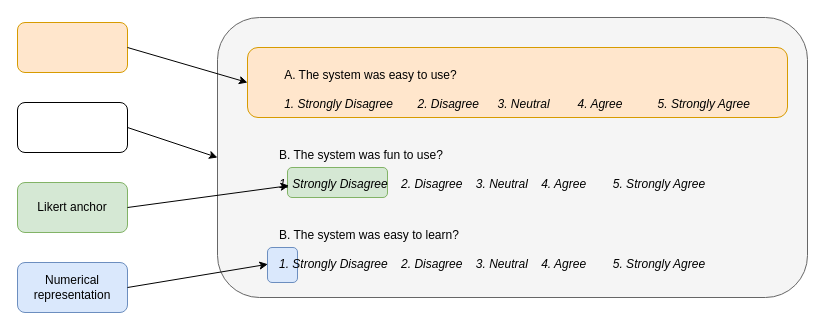
Some shapes in this 825 by 330 pixel diagram are drawn without their labels. The centre of each missing label's shape, as x and y in pixels:
"Likert item" belongs at [72,47].
"Likert scale" belongs at [72,127].
